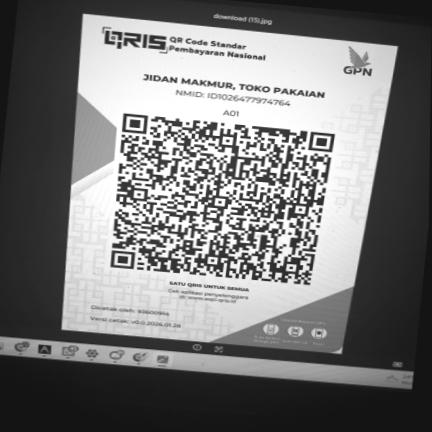Cara Pakai QRIS: (243, 312, 348, 355)
Cek Aplikasi Penyelenggara: (164, 287, 253, 307)
Dicetak Oleh: (90, 303, 172, 318)
Logo GPN: (333, 43, 382, 83)
Logo dan deskripsi QRIS: (88, 21, 279, 69)
Nama Merchant: (137, 71, 330, 102)
National Merchant ID: (171, 88, 295, 110)
QR Code: (103, 109, 341, 290)
Slogan: (166, 279, 253, 293)
Terminal ID: (218, 107, 242, 119)
Versi Cetak: (88, 315, 184, 330)
